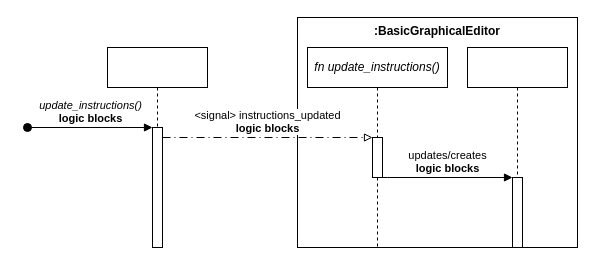
This 595x265 diagram has some shape labels left out. The shapes that lost their labels are listed below. From the top down, each one's centre as x and y in pixels, then its label:
At pixel 157 147: ":CodeManager".
At pixel 517 147: "Instruction_set".
